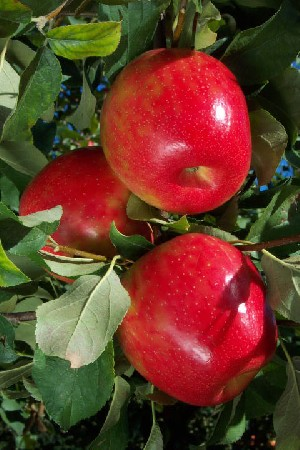apple: (116, 231, 281, 410), (98, 46, 254, 217)
